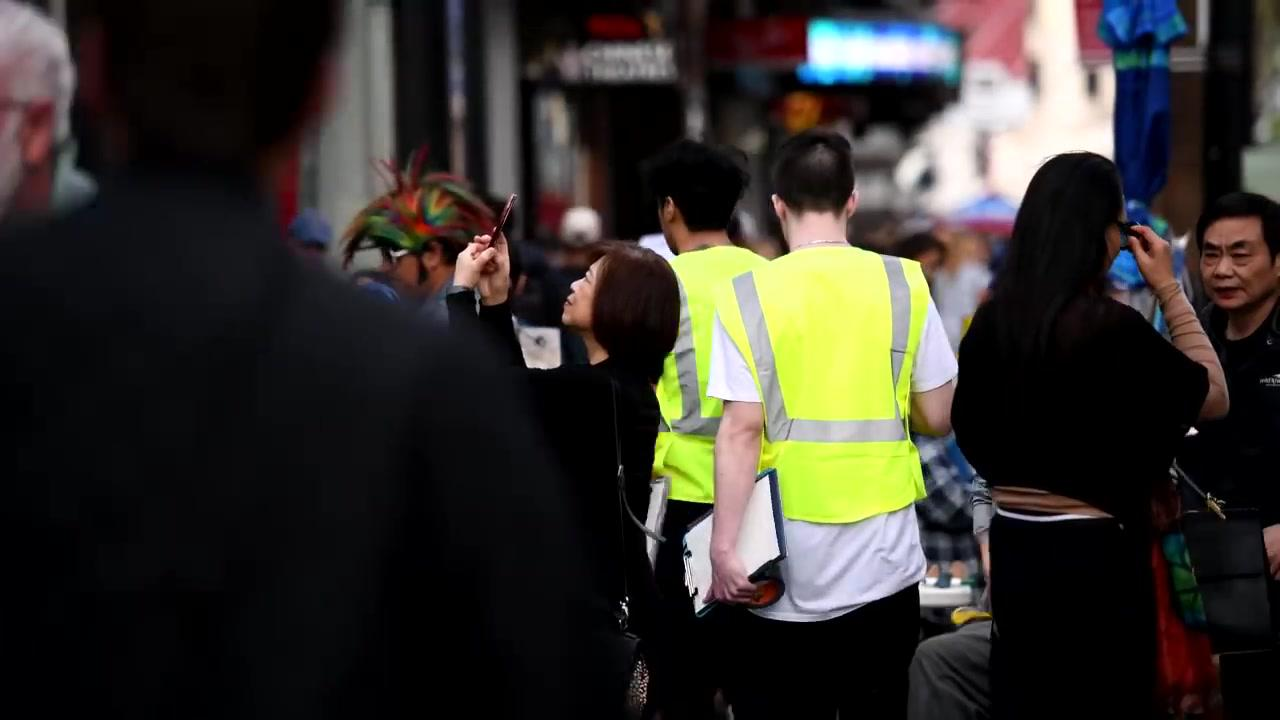Hi-Vis Jacket: (734, 260, 934, 520), (651, 249, 783, 499)
